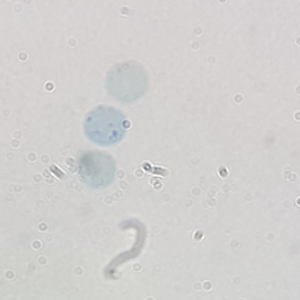aggregate reticulocyte: (80, 104, 129, 148)
erythrocyte: (75, 148, 120, 191)
punctate reticulocyte: (104, 58, 150, 105)
